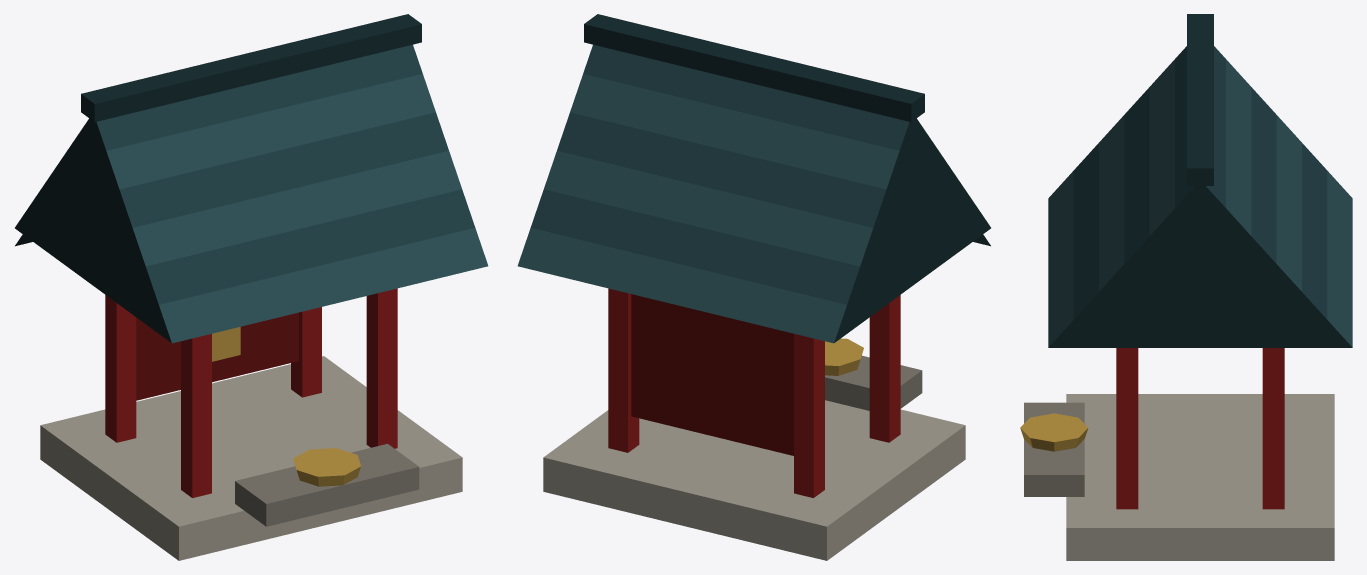
File: roadside-shrine.glb
3 views of the same model, side by side, from view 1: azimuth 30°, elevation 25°; view 2: azimuth 150°, elevation 25°; view 3: azimuth 270°, elevation 25° (orthographic). The views are drawn at different scales.
Visible parts, largest first — view 1: roadside-shrine; view 2: roadside-shrine; view 3: roadside-shrine.
Boxes of the visible parts, <box> form: roadside-shrine: <box>15,14,488,560</box>; roadside-shrine: <box>517,14,990,560</box>; roadside-shrine: <box>1020,14,1352,560</box>.
Bounding box in the file's own units: 3 × 3.65 × 2.73.
